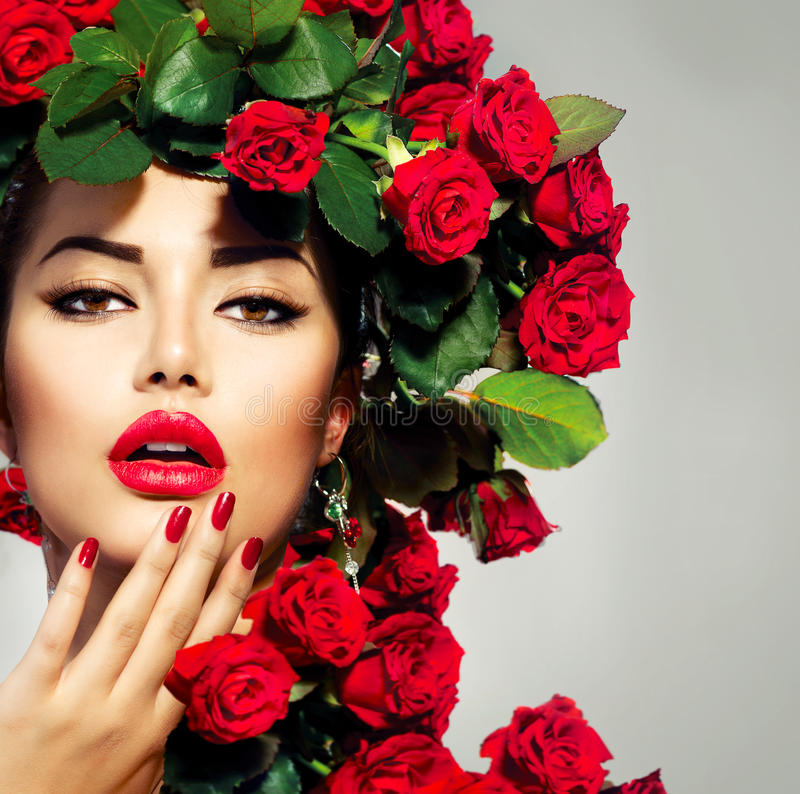RedRose: (158, 618, 303, 752), (354, 601, 470, 746), (239, 555, 380, 671), (377, 141, 500, 273), (519, 251, 641, 380), (217, 79, 333, 204), (449, 71, 564, 189), (452, 469, 568, 560)
